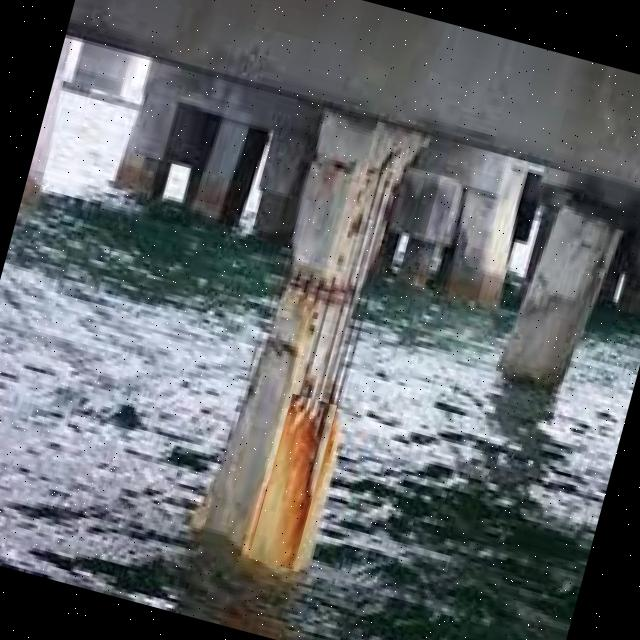Corrosion: (184, 98, 432, 582), (493, 195, 626, 399), (236, 388, 349, 576)
